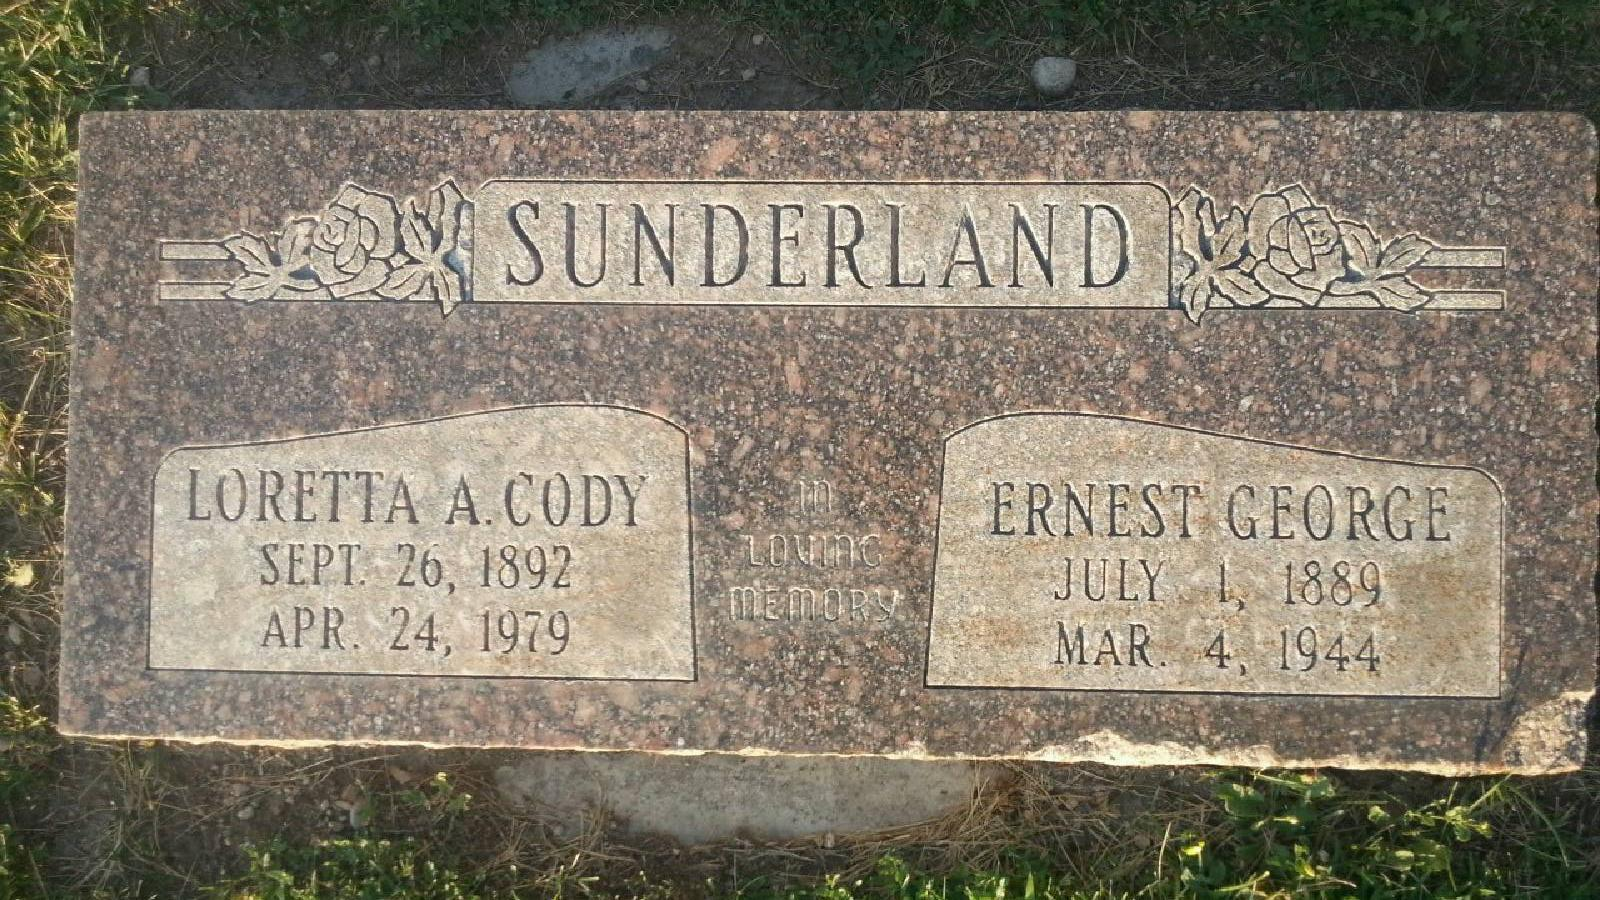flat: (58, 104, 1593, 770)
